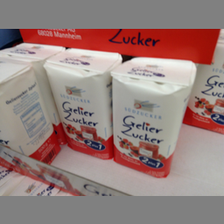tomato_sauce: (110, 57, 195, 179), (43, 48, 121, 161), (1, 59, 61, 168)
